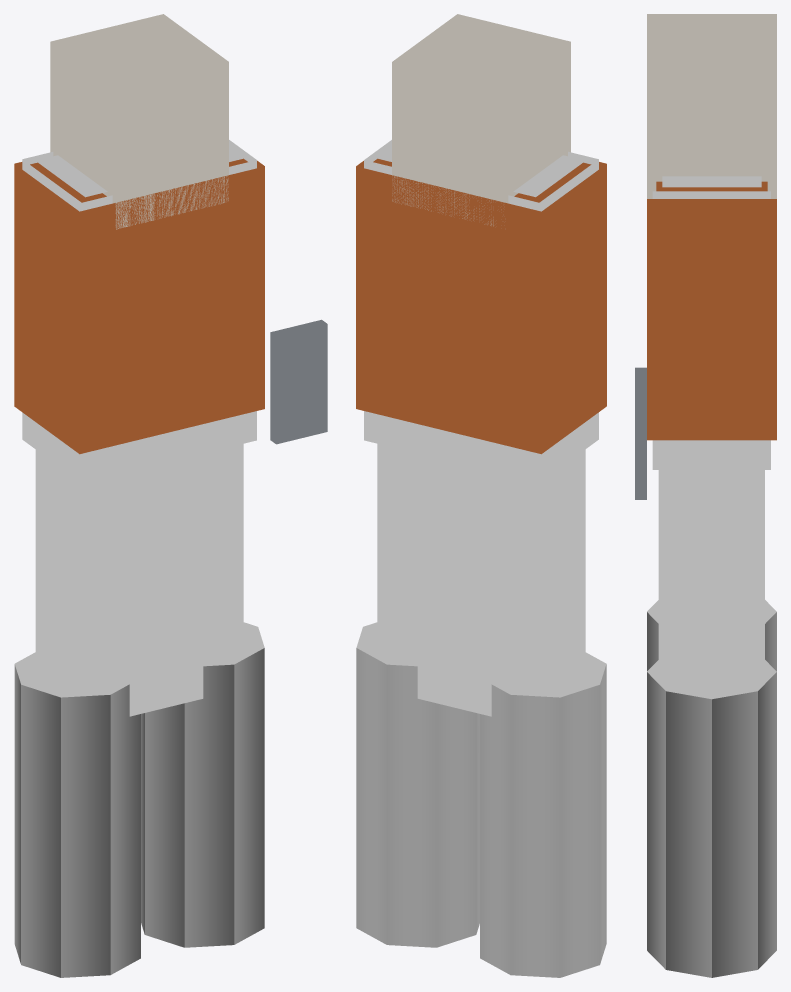
The model's file is staff-safety-idle.obj.
3 views of the same model, side by side, from view 1: azimuth 30°, elevation 25°; view 2: azimuth 150°, elevation 25°; view 3: azimuth 270°, elevation 25° (orthographic).
Parts seen in each view (by area): view 1: staff-safety-idle; view 2: staff-safety-idle; view 3: staff-safety-idle.
Part boxes in pixels (box(x1,y1,x2,y2)): staff-safety-idle: box(14, 14, 327, 977); staff-safety-idle: box(356, 14, 606, 977); staff-safety-idle: box(635, 14, 776, 977).
Size of the model in its own units: 0.52 by 1.64 by 0.24.
